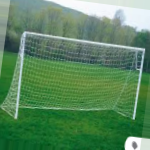goals: (1, 30, 147, 124)
